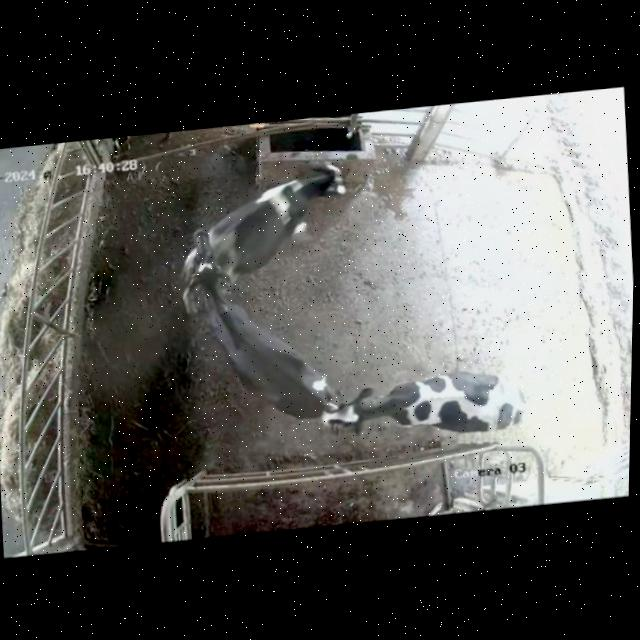propping: (175, 222, 243, 322)
stand: (325, 348, 535, 456), (204, 154, 369, 282)
